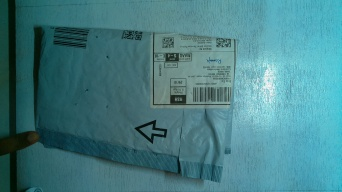a: (35, 26, 241, 188)
